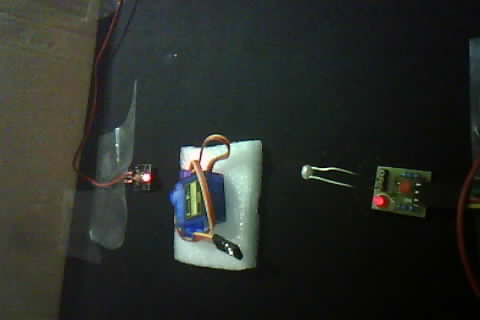motor: (167, 131, 263, 262)
